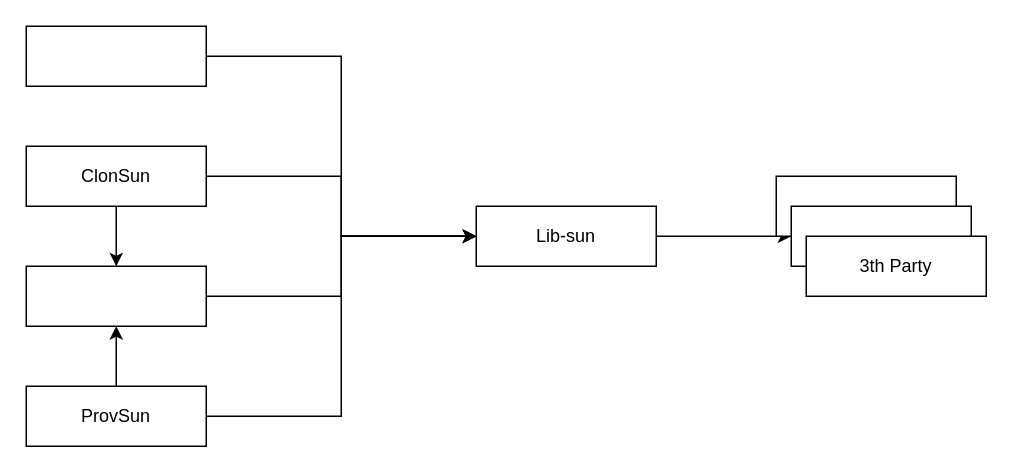
Some shapes in this 1013 by 473 pixel diagram are drawn without their labels. The shapes that lost their labels are listed below. From the top down, each one's centre as x and y in pixels, then its label:
At (115,55): "Scal Sun".
At (115,295): "ConSun".
